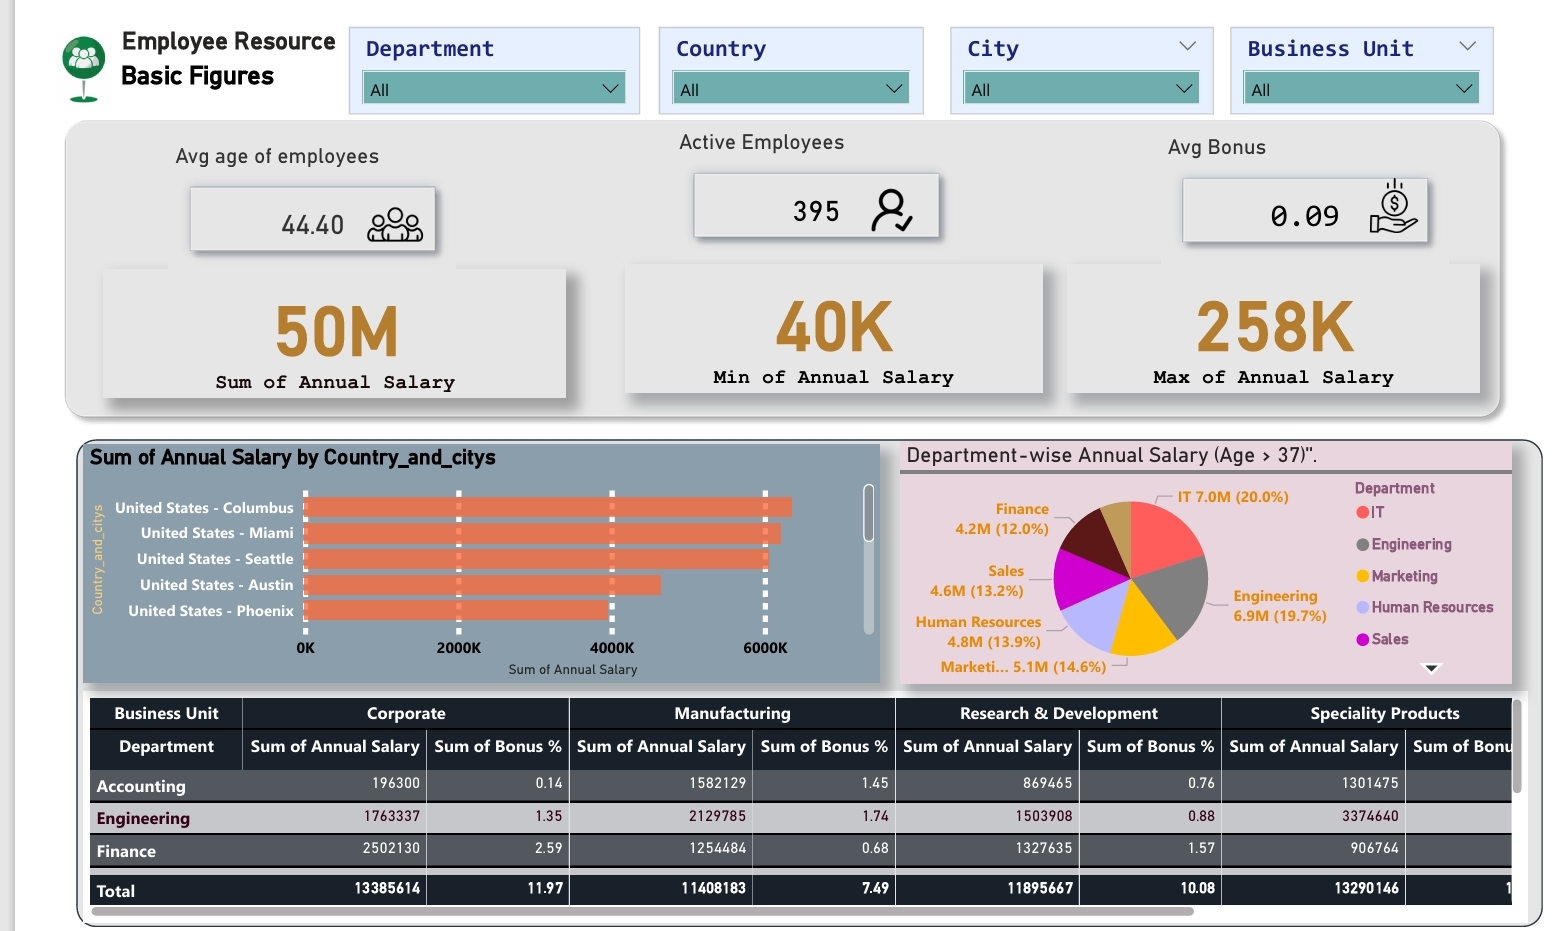

Layout of this report page (visuals, bound fields, positions):
{"tool":"powerbi","page":{"name":"Page 1","canvas":[1280,720],"ordinal":0},"visuals":[{"type":"shape","box":[8,66,1166,255],"z":0},{"type":"card","fields":{"Values":["Sum(Male_Employees.Annual Salary)"]},"box":[48,194,370,103],"z":1000},{"type":"card","fields":{"Values":["Min(Male_Employees.Annual Salary)"]},"box":[465,190,334,103],"z":2000},{"type":"card","fields":{"Values":["Max(Male_Employees.Annual Salary)"]},"box":[819,190,330,103],"z":3000},{"type":"pieChart","fields":{"Category":["Department and Units.Department"],"Y":["Sum(TBL_Employees.Annual Salary)"]},"box":[141,360,224,137],"z":4000},{"type":"cardVisual","title":"Avg age of employees","fields":{"Data":["Avg(Male_Employees.Age)"]},"box":[100,93,230,104],"z":5000},{"type":"image","box":[250,130,61,56],"z":6000},{"type":"shape","title":"Employee Resource","box":[0,0,296,67],"z":7000},{"type":"image","box":[0,0,64,67],"z":8000},{"type":"cardVisual","title":"Active Employees","fields":{"Data":["Male_Employees.Active_Employee"]},"box":[503,82,230,104],"z":9000},{"type":"image","box":[632,123,93,47],"z":10000},{"type":"cardVisual","title":"Avg Bonus","fields":{"Data":["Avg(Male_Employees.Bonus %)"]},"box":[894,86,230,104],"z":11000},{"type":"image","box":[1042,116,75,54],"z":12000},{"type":"shape","box":[26,330,1173,390],"z":13000},{"type":"pivotTable","fields":{"Rows":["Male_Employees.Department"],"Columns":["Male_Employees.Business Unit"],"Values":["Sum(Male_Employees.Annual Salary)","Sum(Male_Employees.Bonus %)"]},"box":[32,532,1156,185],"z":14000},{"type":"slicer","fields":{"Values":["Department and Units.Department"]},"box":[244,0,233,70],"z":15000},{"type":"slicer","fields":{"Values":["Country and City.Country"]},"box":[492,0,212,70],"z":16000},{"type":"slicer","fields":{"Values":["Country and City.City"]},"box":[725,0,211,70],"z":17000},{"type":"slicer","fields":{"Values":["Male_Employees.Business Unit"]},"box":[949,0,211,70],"z":18000},{"type":"clusteredBarChart","fields":{"Y":["Sum(Male_Employees.Annual Salary)"],"Category":["Male_Employees.Country_and_citys"]},"box":[32,334,637,191],"z":19000},{"type":"pieChart","title":"Department-wise Annual Salary (Age > 37)\".","fields":{"Category":["Department and Units.Department"],"Y":["Sum(Male_Employees.Annual Salary)"]},"box":[685,332,489,194],"z":20000}]}

Visuals, with their boxes on the page's 1280x720 design canvas (x1, y1, x2, y2). These are canvas units, not pixel positions in the 1562x931 screenshot, which may show the page scaled, cropped or inside an application window:
shape: {"x1": 8, "y1": 66, "x2": 1174, "y2": 321}
card - Sum(Male_Employees.Annual Salary): {"x1": 48, "y1": 194, "x2": 418, "y2": 297}
card - Min(Male_Employees.Annual Salary): {"x1": 465, "y1": 190, "x2": 799, "y2": 293}
card - Max(Male_Employees.Annual Salary): {"x1": 819, "y1": 190, "x2": 1149, "y2": 293}
pieChart - Department and Units.Department x Sum(TBL_Employees.Annual Salary): {"x1": 141, "y1": 360, "x2": 365, "y2": 497}
"Avg age of employees" cardVisual: {"x1": 100, "y1": 93, "x2": 330, "y2": 197}
image: {"x1": 250, "y1": 130, "x2": 311, "y2": 186}
"Employee Resource" shape: {"x1": 0, "y1": 0, "x2": 296, "y2": 67}
image: {"x1": 0, "y1": 0, "x2": 64, "y2": 67}
"Active Employees" cardVisual: {"x1": 503, "y1": 82, "x2": 733, "y2": 186}
image: {"x1": 632, "y1": 123, "x2": 725, "y2": 170}
"Avg Bonus" cardVisual: {"x1": 894, "y1": 86, "x2": 1124, "y2": 190}
image: {"x1": 1042, "y1": 116, "x2": 1117, "y2": 170}
shape: {"x1": 26, "y1": 330, "x2": 1199, "y2": 720}
pivotTable - Male_Employees.Department x Male_Employees.Business Unit: {"x1": 32, "y1": 532, "x2": 1188, "y2": 717}
slicer - Department and Units.Department: {"x1": 244, "y1": 0, "x2": 477, "y2": 70}
slicer - Country and City.Country: {"x1": 492, "y1": 0, "x2": 704, "y2": 70}
slicer - Country and City.City: {"x1": 725, "y1": 0, "x2": 936, "y2": 70}
slicer - Male_Employees.Business Unit: {"x1": 949, "y1": 0, "x2": 1160, "y2": 70}
clusteredBarChart - Sum(Male_Employees.Annual Salary) x Male_Employees.Country_and_citys: {"x1": 32, "y1": 334, "x2": 669, "y2": 525}
"Department-wise Annual Salary (Age > 37)"." pieChart: {"x1": 685, "y1": 332, "x2": 1174, "y2": 526}
